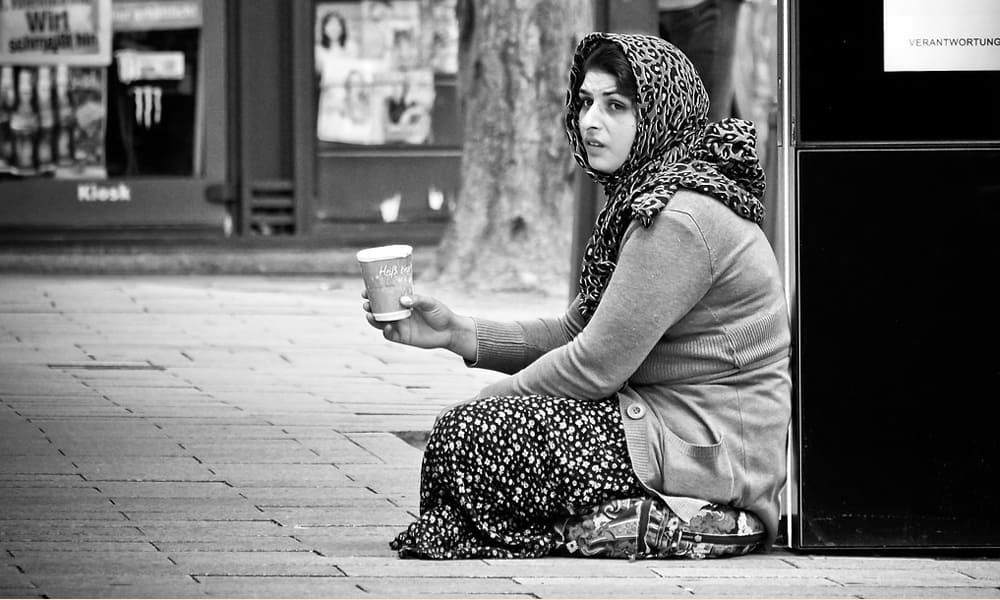gelandangan: (331, 26, 799, 558)
